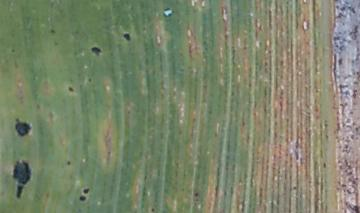tarspot: (12, 158, 32, 200), (12, 116, 32, 140), (344, 198, 359, 213), (46, 109, 57, 126), (90, 46, 101, 57), (12, 57, 20, 71), (293, 148, 300, 164), (78, 194, 88, 204), (122, 32, 131, 42), (65, 158, 73, 167), (48, 26, 57, 34), (67, 84, 74, 94), (35, 101, 42, 111), (337, 56, 344, 66), (82, 186, 89, 195), (85, 76, 94, 83), (10, 46, 17, 54), (278, 58, 285, 66), (322, 160, 328, 169), (192, 190, 199, 197), (52, 39, 59, 46), (150, 207, 156, 213), (292, 184, 297, 191)
